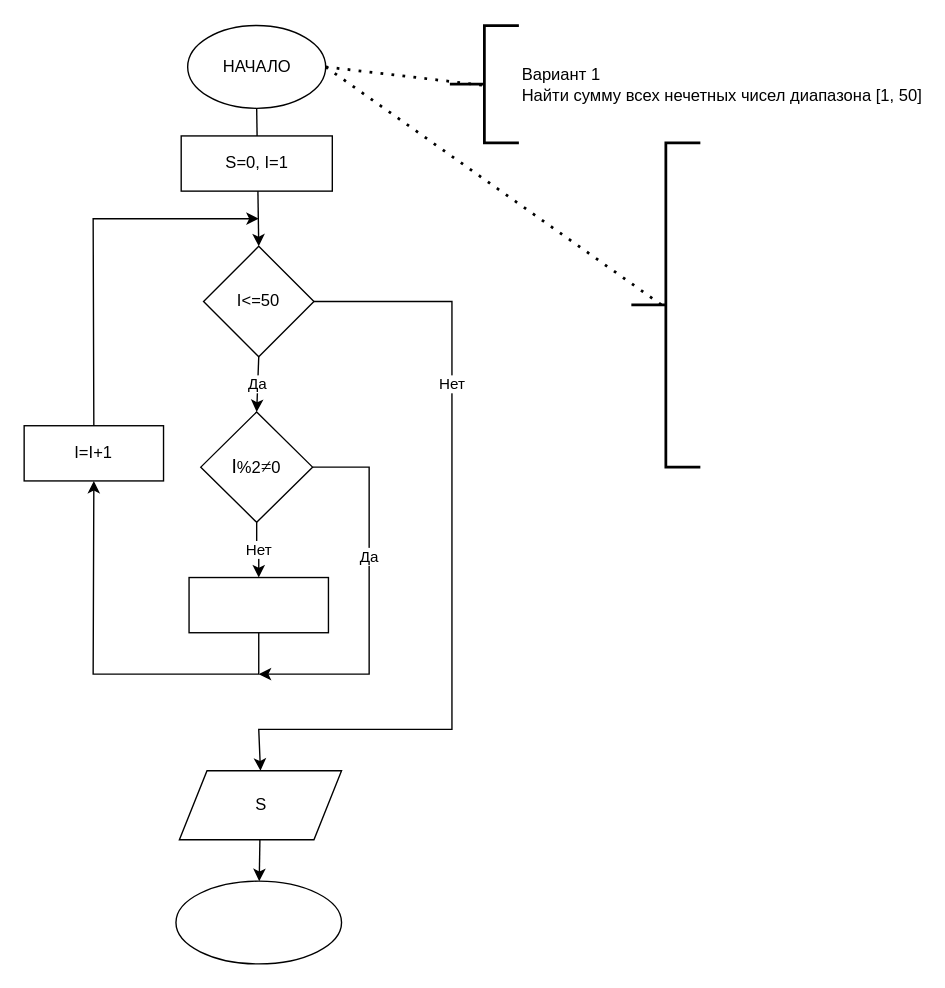
Image size: 945x988. Some labels were removed from this diagram. Here are the shapes that lost their labels. From the top down, the box of each, then its label:
(629, 141, 701, 468): S=0, I=1 пока I<=50 нц если I%2 ≠ 0 то S=S+I I=I+1 кц вывод (S)
(188, 576, 328, 633): S=S+ I
(175, 880, 342, 964): ВЫХОД
